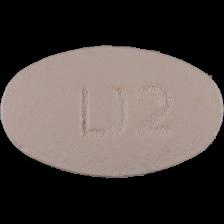68180-478: (0, 0, 224, 224)
